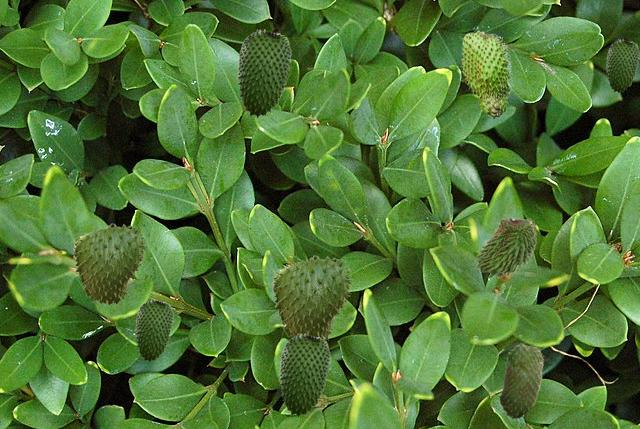guyabano: (272, 255, 352, 341), (73, 223, 146, 306), (237, 29, 290, 117), (460, 30, 512, 118), (279, 333, 329, 416), (474, 215, 536, 277), (499, 343, 543, 418), (135, 299, 172, 361), (606, 39, 638, 92)
